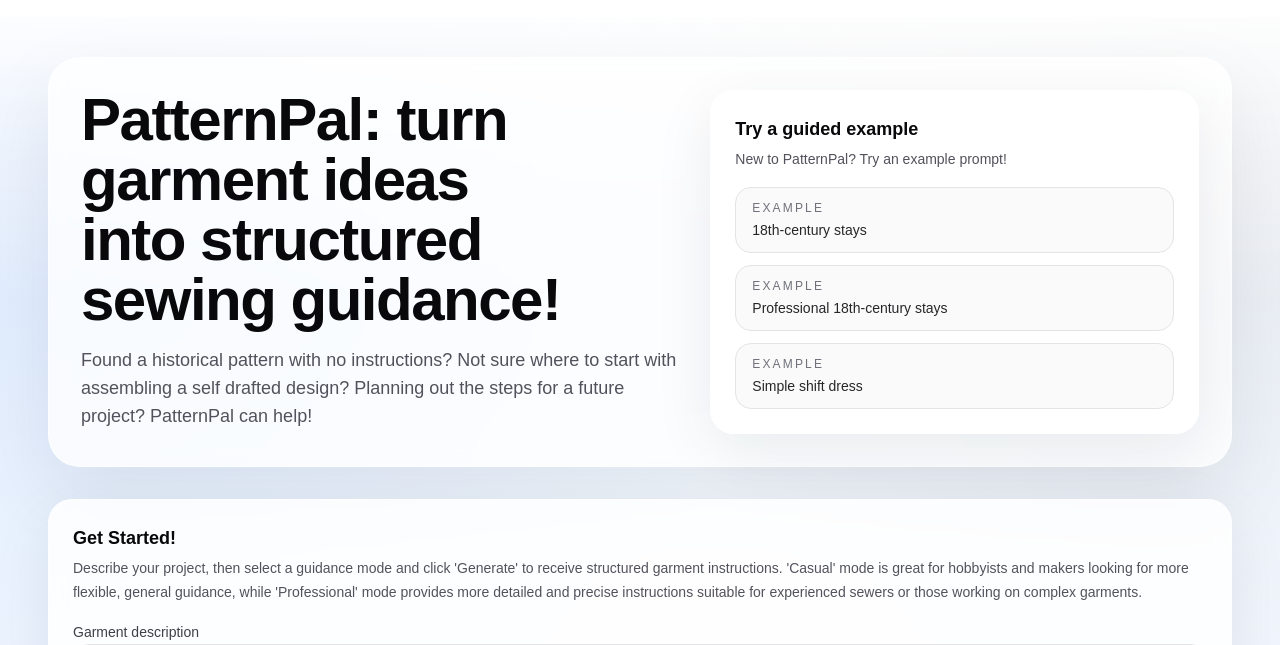
Milestone 1 UX paths › applies preset examples and renders matching garment output
Click the button "Example Simple shift dress": (788, 364) 735,343 -> 1174,409
(page scrolled)
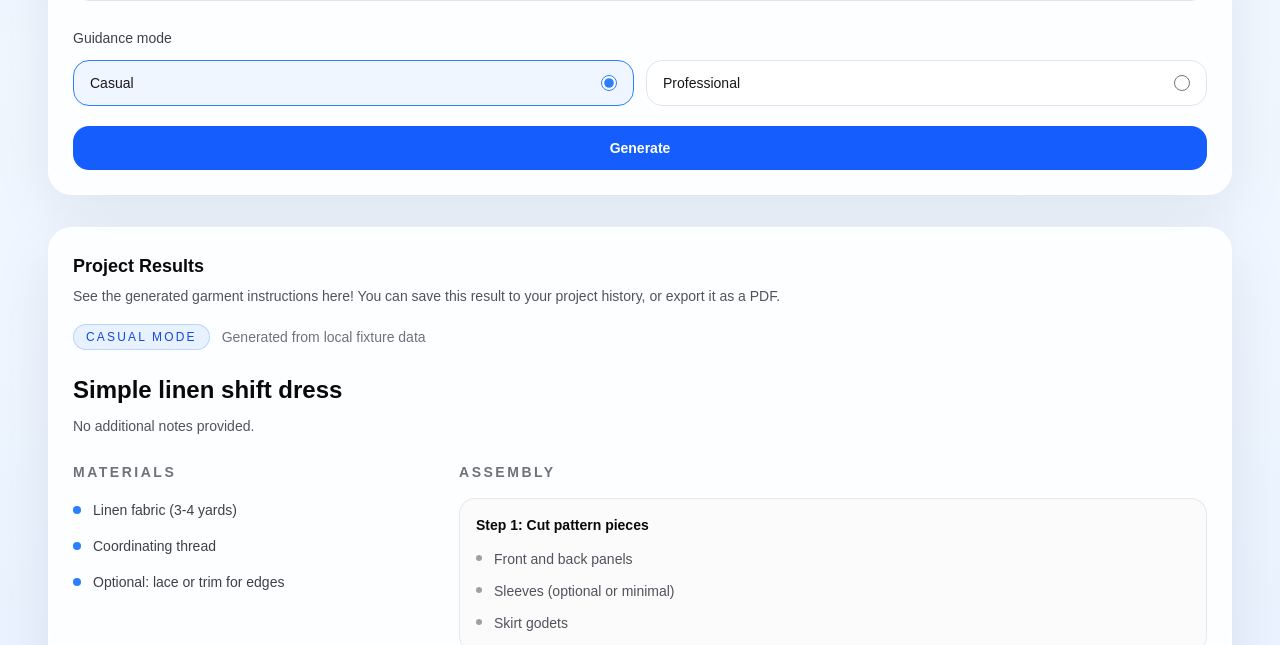
Check: the text "casual mode" is shown, box 73,324 -> 210,350
Check: the heading "Simple linen shift dress" is shown, box 73,376 -> 342,403
